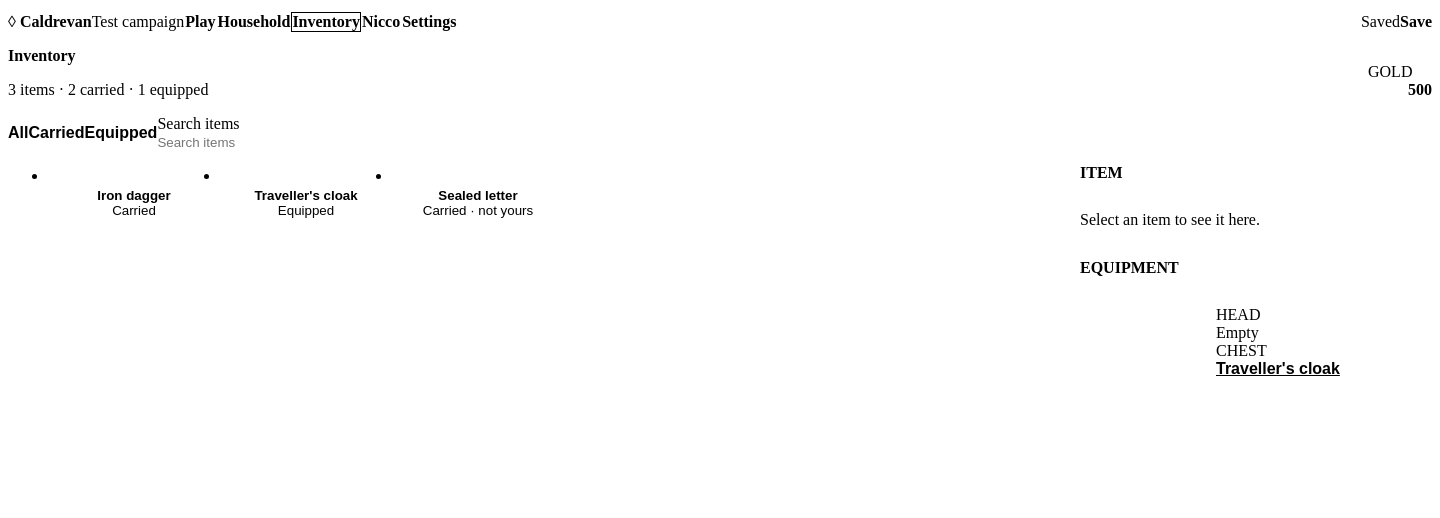
Inventory page › shows the selected item's detail and the read-only equipment slots from the read model
This screenshot has width=1440, height=518.
Expected: the heading "Inventory" is shown, [8,47,76,64]
Expected: the text "Select an item to see it here." is shown, [1080,211,1260,228]
Step 1. Click the button with aria-label "Traveller's cloak, equipped" → (306, 203), box [220,181,392,225]
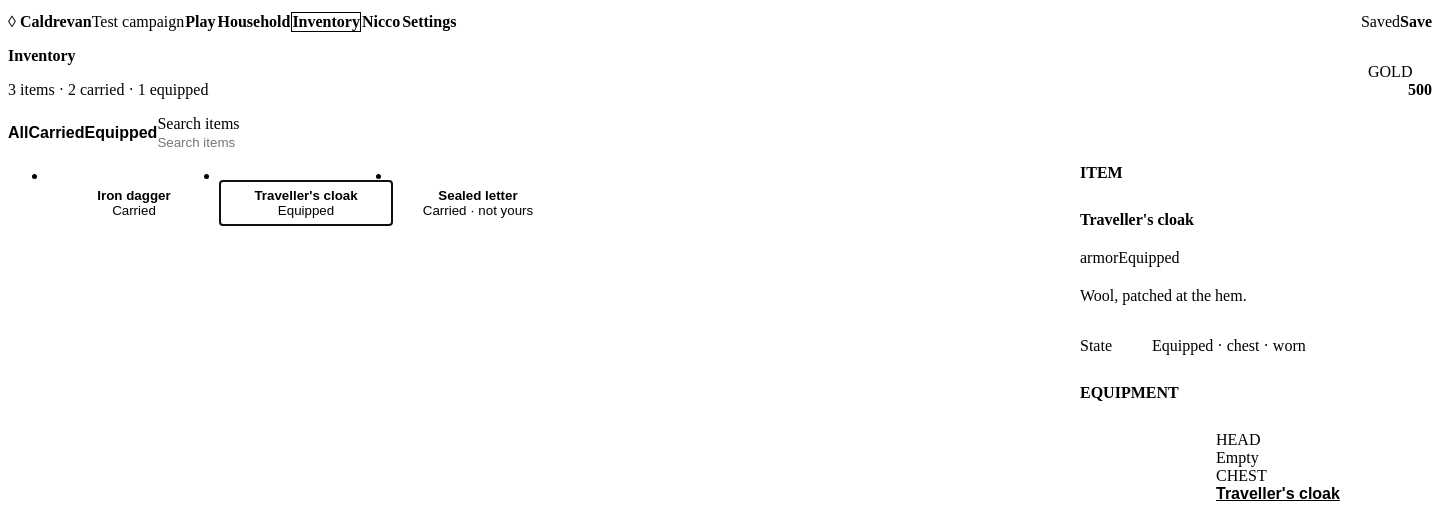
Now the heading "Traveller's cloak" is shown, box [1080,211,1194,228]
Now the text "Wool, patched at the hem." is shown, box [1080,287,1247,304]
Now the text "Equipped · chest · worn" is shown, box [1152,337,1306,354]
